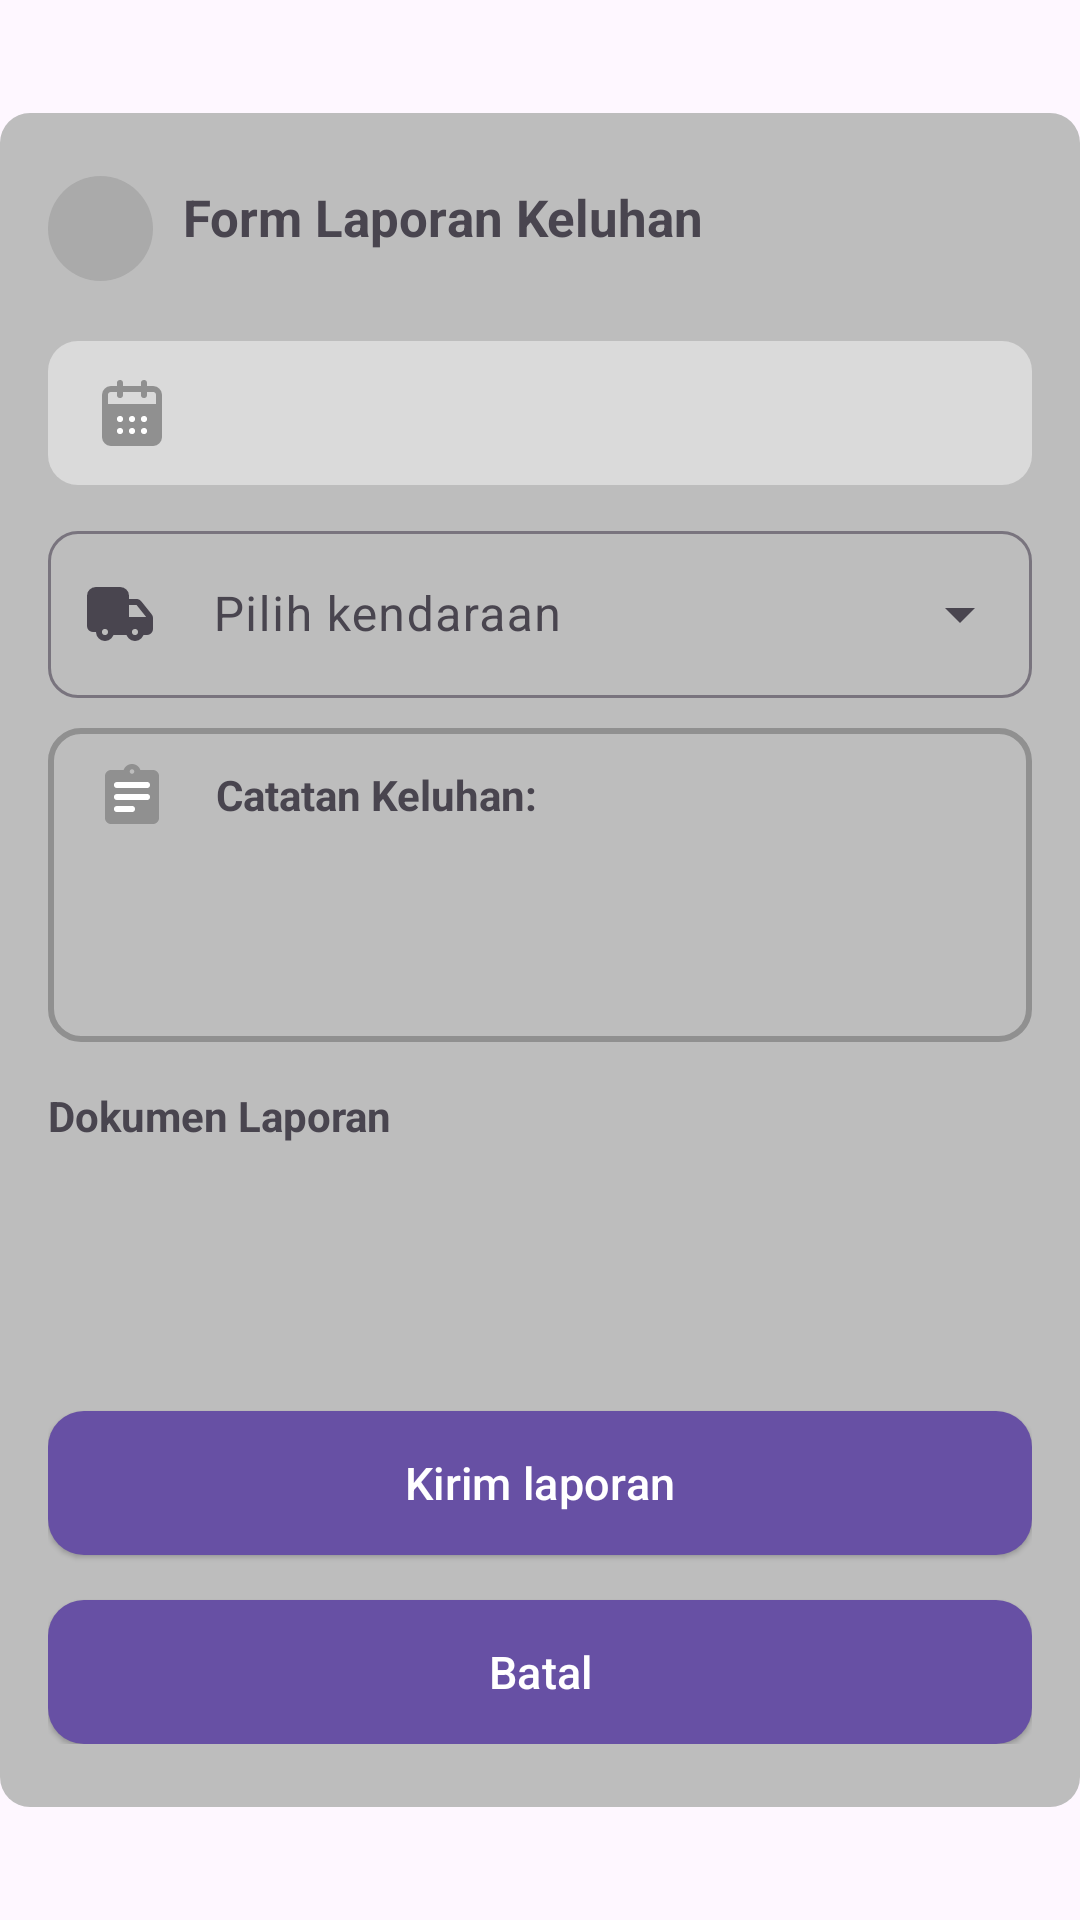

Icons on this 1080px×1920px Android screen, each with the point to tap as (x,y):
notes: (132,794)
